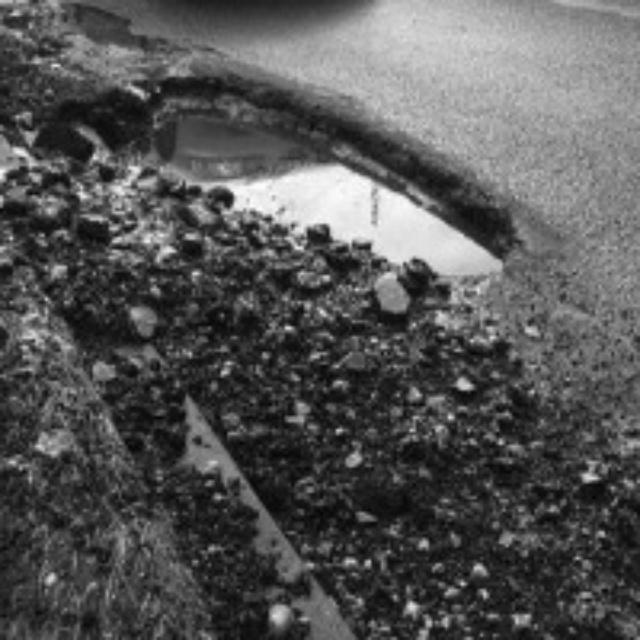Pothole: (85, 58, 488, 275)
Surface Erosion: (0, 3, 561, 640)
